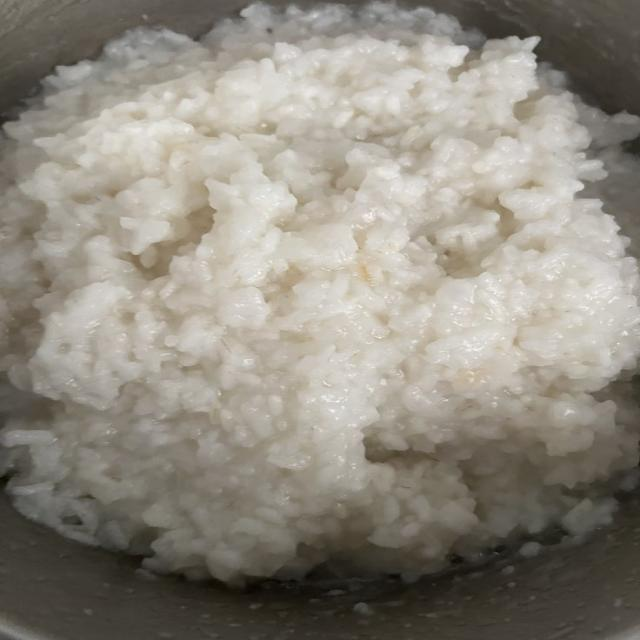rice: (0, 4, 639, 580)
